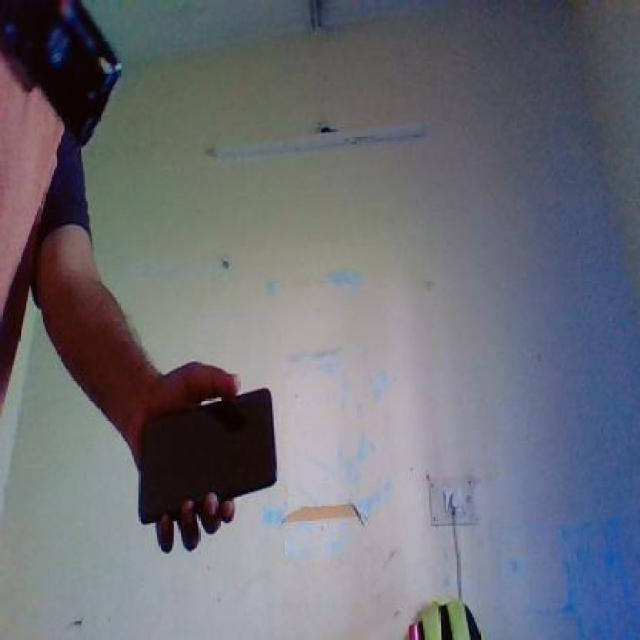Phone: (137, 387, 278, 531), (3, 0, 122, 147)
